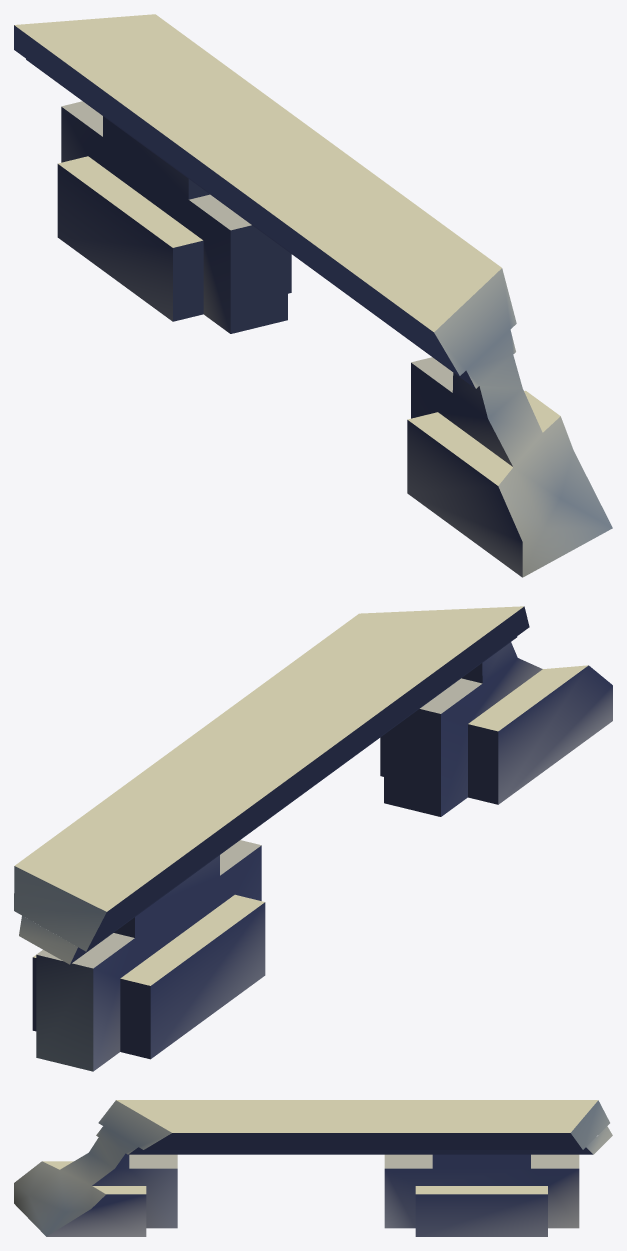
The model's file is BridgeRailing.gltf.
The picture shows the model from 3 angles, top to bottom: view 1: azimuth 30°, elevation 25°; view 2: azimuth 150°, elevation 25°; view 3: azimuth 270°, elevation 25°; orthographic projection. The views are drawn at different scales.
Parts seen in each view (by area): view 1: BridgeRailingMesh; view 2: BridgeRailingMesh; view 3: BridgeRailingMesh.
Boxes of the visible parts, x1=… form: BridgeRailingMesh: x1=14, y1=14, x2=612, y2=577; BridgeRailingMesh: x1=14, y1=606, x2=612, y2=1071; BridgeRailingMesh: x1=14, y1=1100, x2=612, y2=1236.
Bounding box in the file's own units: 0.6386 × 0.9277 × 4.86.
